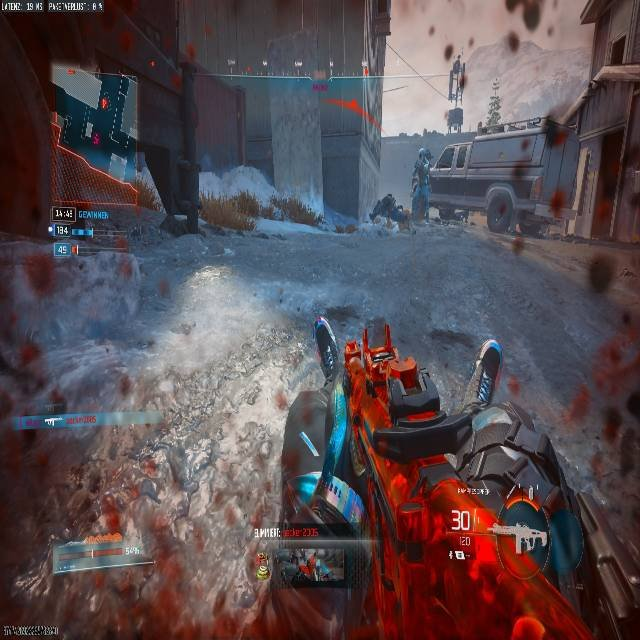player: (279, 320, 582, 640), (369, 193, 410, 237)
